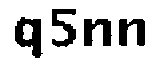5: (49, 5, 77, 50)
n: (116, 15, 148, 51), (82, 17, 112, 51)
q: (12, 16, 46, 60)
